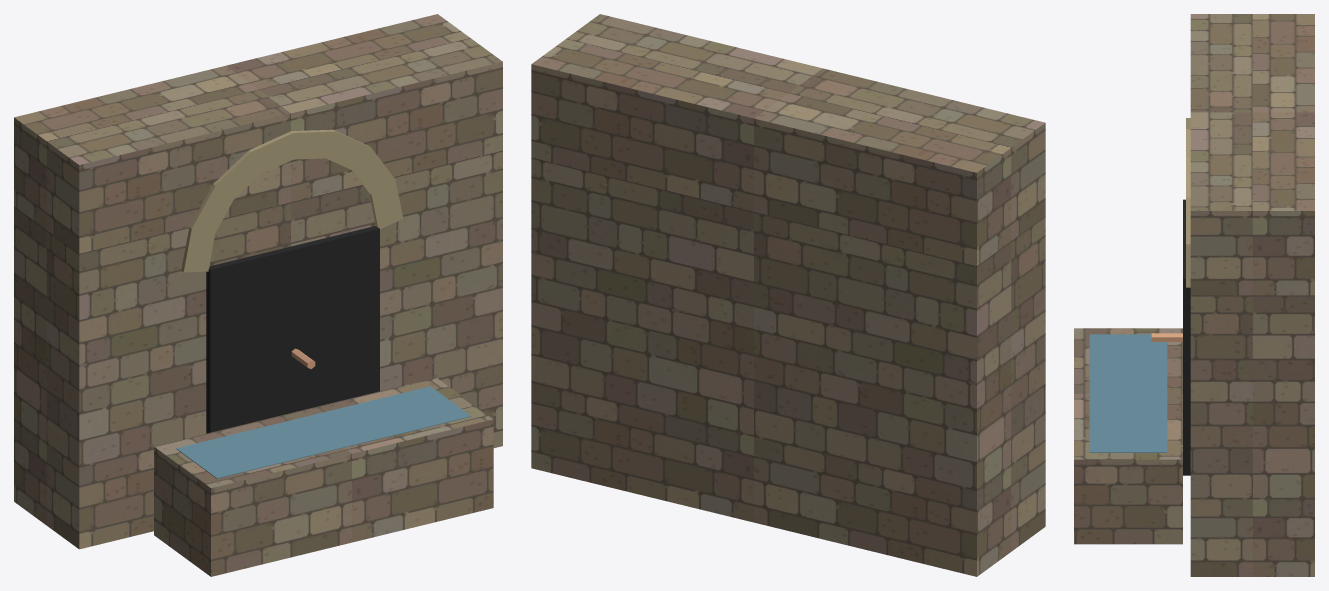
The model's file is spring_rodnik.glb.
The picture shows the model from 3 angles, left to right: view 1: azimuth 30°, elevation 25°; view 2: azimuth 150°, elevation 25°; view 3: azimuth 270°, elevation 25°; orthographic projection. The views are drawn at different scales.
Visible parts, largest first — view 1: Spring_Rodnik; view 2: Spring_Rodnik; view 3: Spring_Rodnik.
Boxes of the visible parts, x1,y1,x2,y2 form: Spring_Rodnik: [14, 14, 502, 576]; Spring_Rodnik: [531, 14, 1045, 576]; Spring_Rodnik: [1074, 14, 1314, 576].
Size of the model in its own units: 3 by 2.6 by 1.55.
5 materials, 2 textured.
